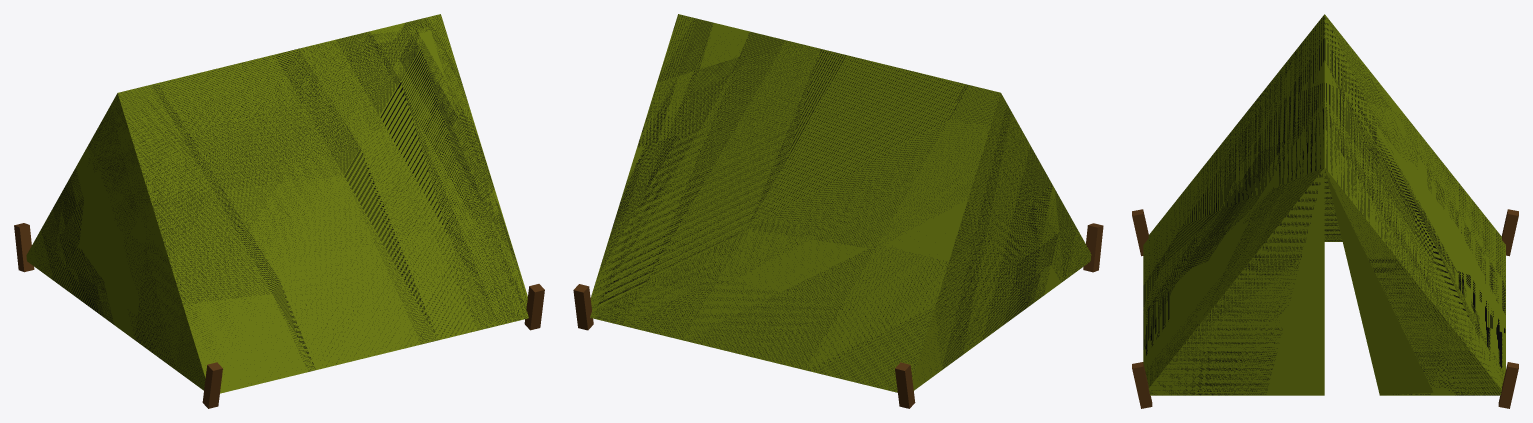
The model's file is ForestTent_02.fbx.
The picture shows the model from 3 angles, left to right: view 1: azimuth 30°, elevation 25°; view 2: azimuth 150°, elevation 25°; view 3: azimuth 270°, elevation 25°; orthographic projection. The views are drawn at different scales.
Visible parts, largest first — view 1: ForestTent_02; view 2: ForestTent_02; view 3: ForestTent_02.
Part boxes in pixels (x1,y1,x2,y2): ForestTent_02: (14,14,544,408); ForestTent_02: (573,14,1103,408); ForestTent_02: (1132,14,1518,408).
Size of the model in its own units: 35.43 by 24.25 by 35.53.
